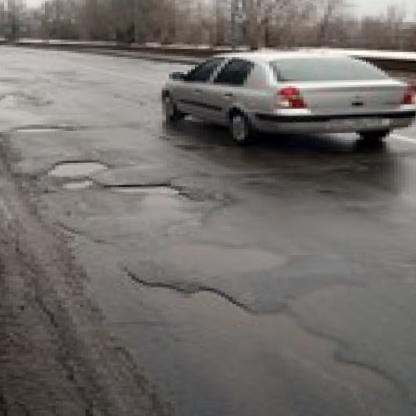pothole: (157, 236, 292, 275), (44, 159, 115, 179), (103, 181, 185, 194), (10, 124, 77, 134), (59, 178, 96, 190)
